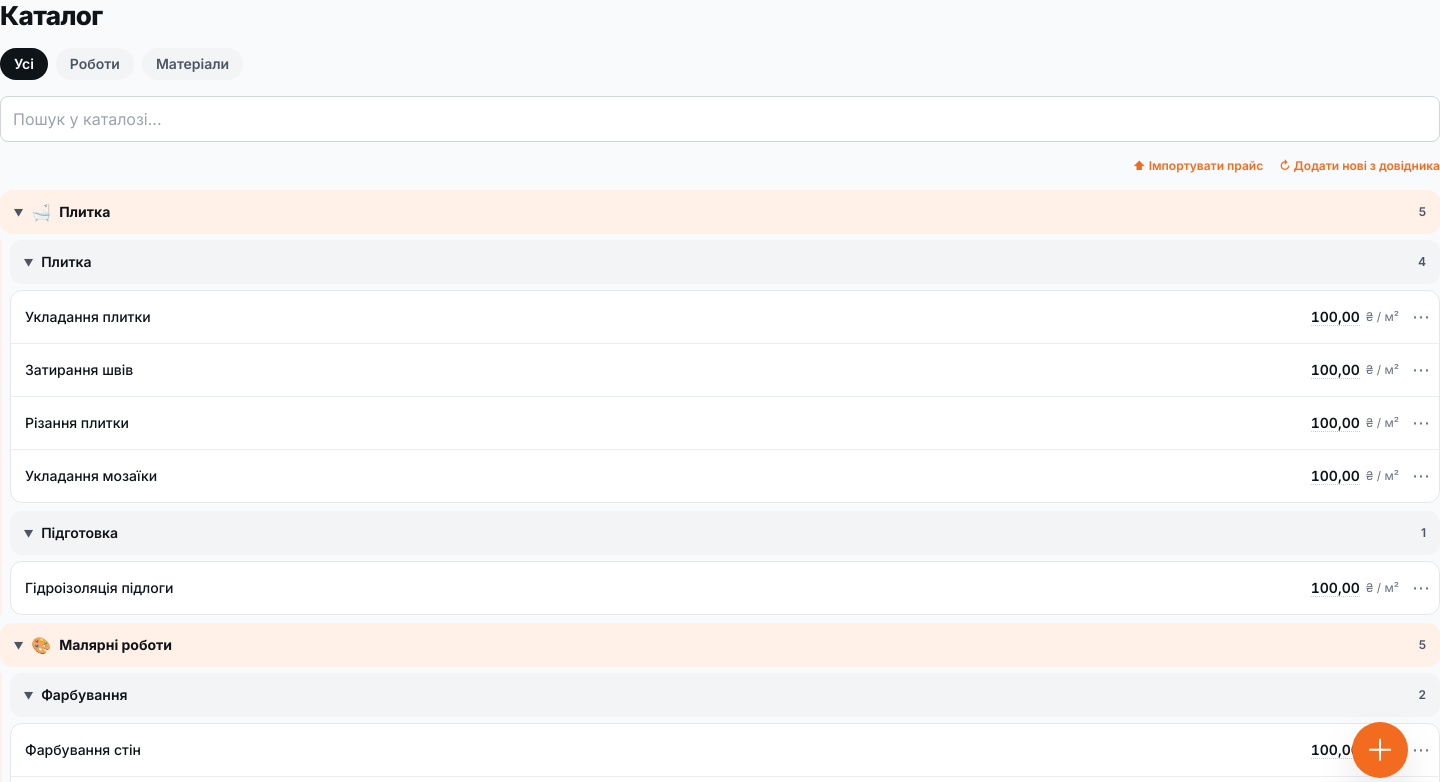
Test: CatalogPage — trade is a level, not a filter › a search that matches nothing offers to create it — not «Стартовий набір»
Expected: the button "Укладання плитки" is shown, [25, 308, 151, 325]
Type "ламінат" into the field with placeholder "Пошук у каталозі...".
click(720, 119); type("ламінат")  # box [0, 96, 1439, 142]
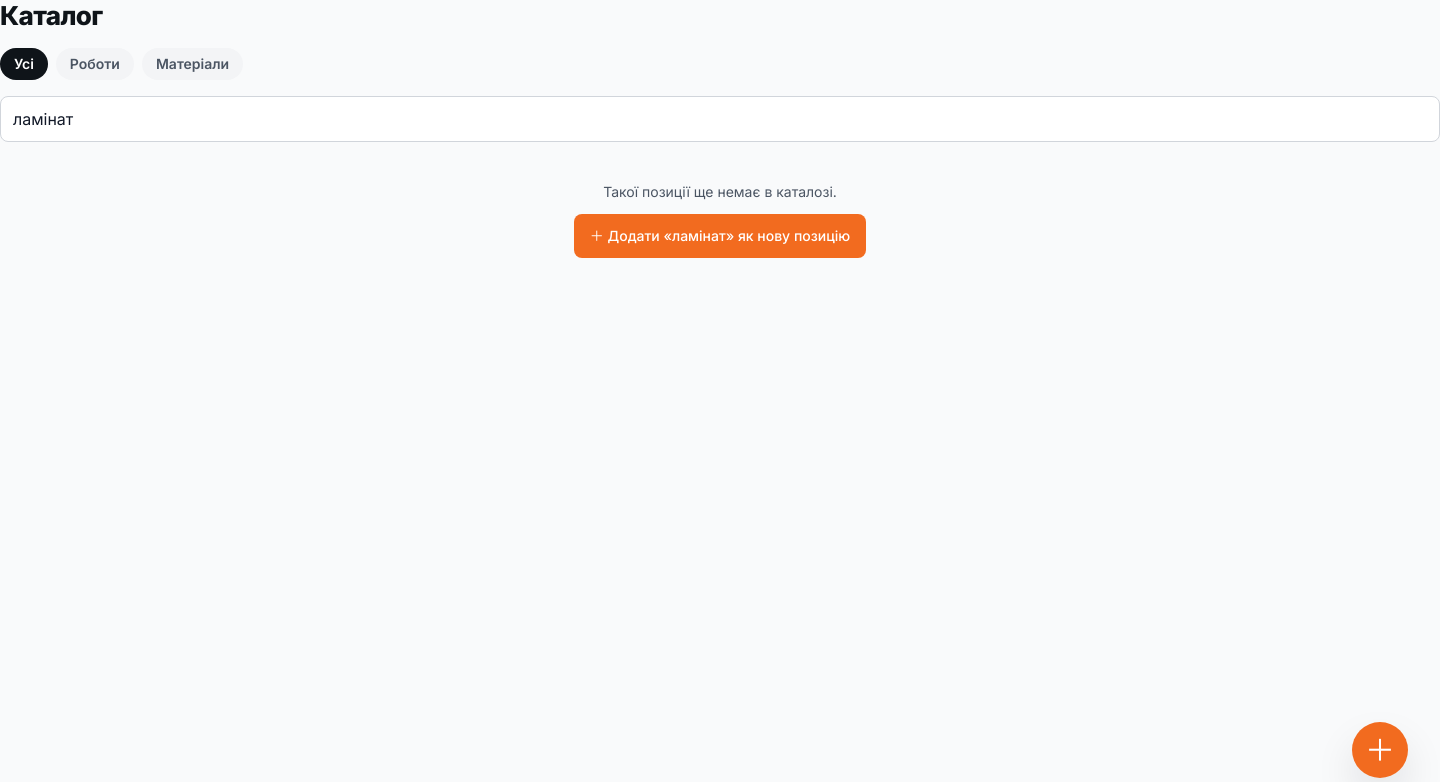
Expected: the text "Такої позиції ще немає в каталозі." is shown, [603, 183, 837, 200]
// The form opens with the searched name already in it — no FAB, no typing it twice.
Click the button "＋ Додати «ламінат» як нову позицію".
click(720, 236)  # box [574, 214, 866, 258]
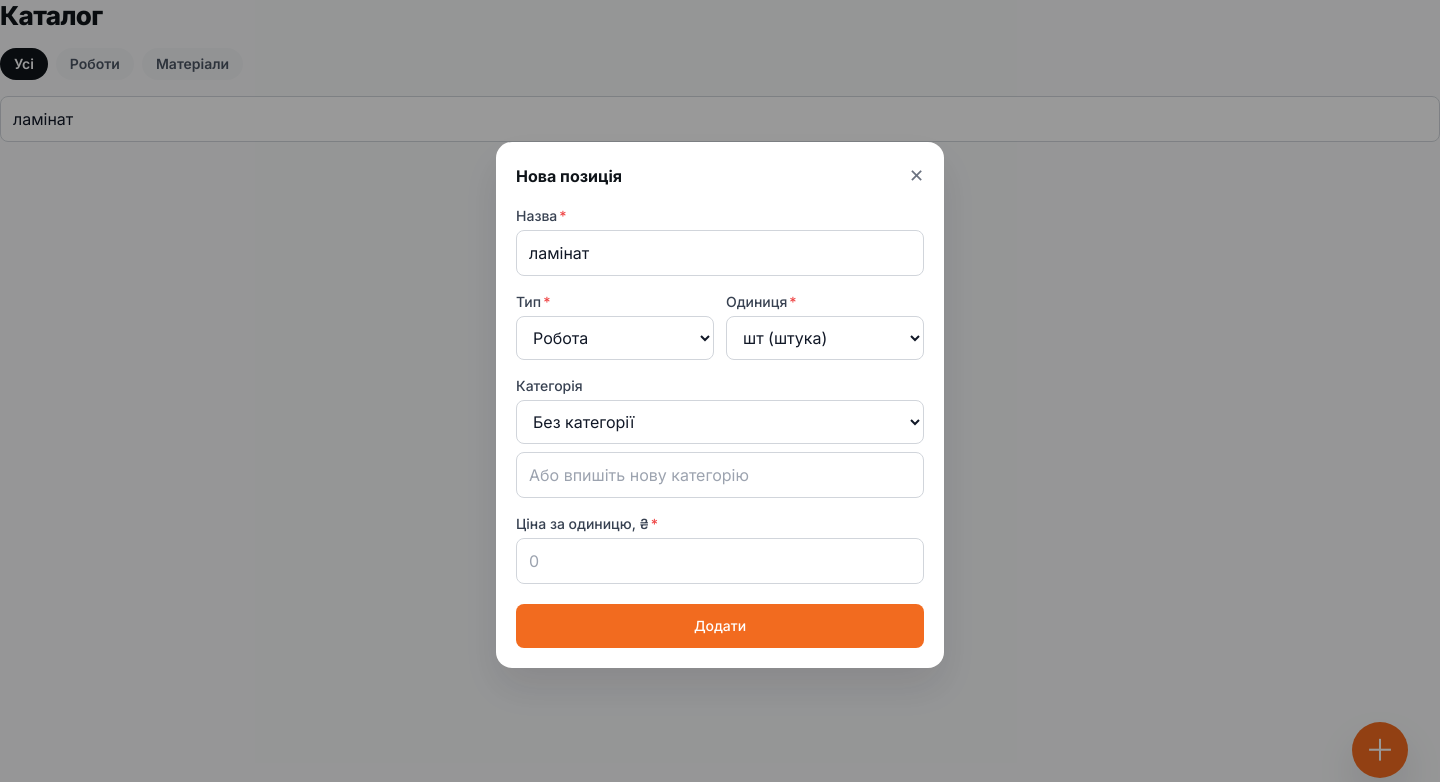
Expected: the field labelled "Назва*" holds "ламінат", [516, 230, 924, 276]
